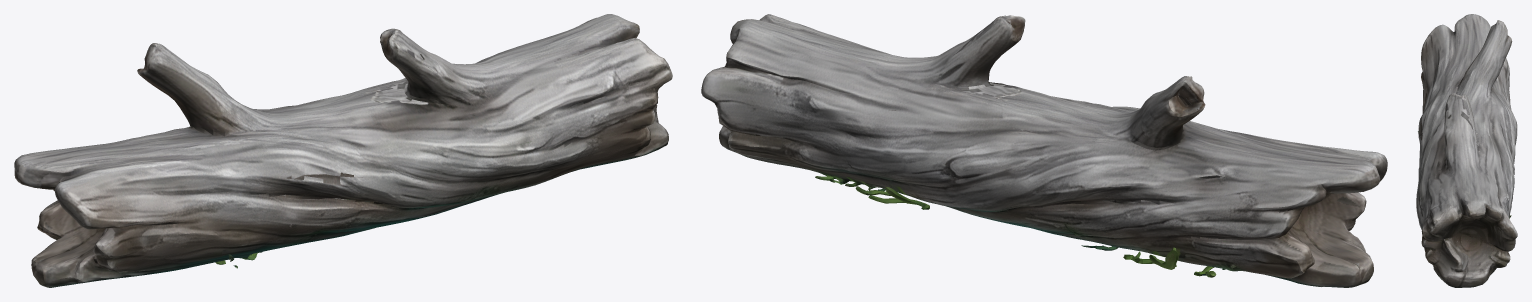
Rendered from tidewake_driftwood_log.glb.
3 views of the same model, side by side, from view 1: azimuth 30°, elevation 25°; view 2: azimuth 150°, elevation 25°; view 3: azimuth 270°, elevation 25° (orthographic). The views are drawn at different scales.
Visible parts, largest first — view 1: Mesh_0; view 2: Mesh_0; view 3: Mesh_0.
Part boxes in pixels (x1=…): Mesh_0: x1=14, y1=14, x2=672, y2=287; Mesh_0: x1=701, y1=14, x2=1387, y2=287; Mesh_0: x1=1416, y1=14, x2=1517, y2=287.
Size of the model in its own units: 1.9 by 0.6034 by 0.4146.
1 material, 1 textured.
